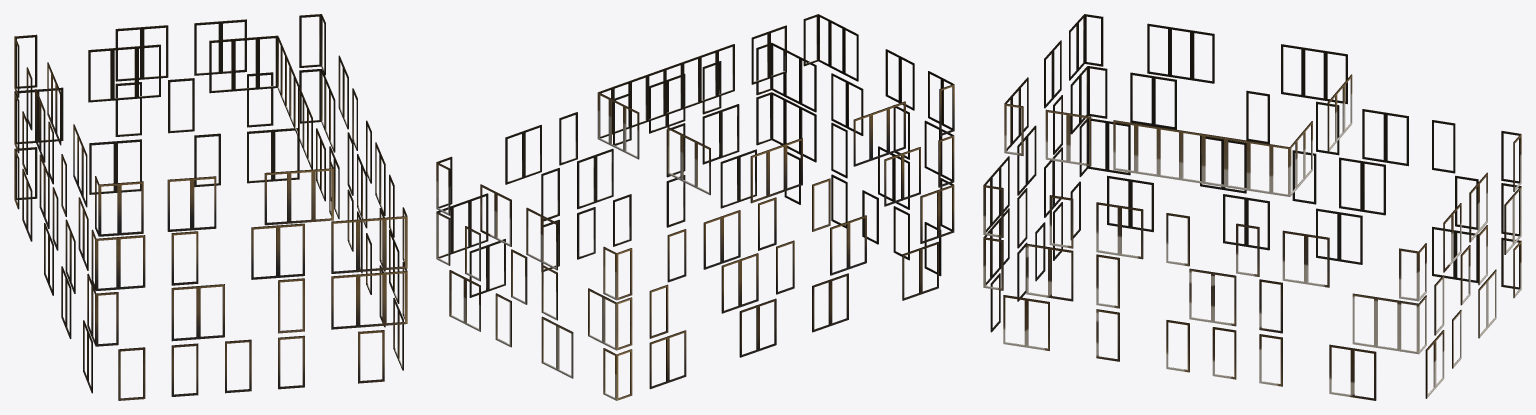
Rendered from Building_07_Frame.fbx.
3 views of the same model, side by side, from view 1: azimuth 30°, elevation 25°; view 2: azimuth 150°, elevation 25°; view 3: azimuth 270°, elevation 25° (orthographic). The views are drawn at different scales.
Visible parts, largest first — view 1: Building_07_Frame; view 2: Building_07_Frame; view 3: Building_07_Frame.
Boxes of the visible parts, x1,y1,x2,y2 form: Building_07_Frame: (14, 14, 407, 400); Building_07_Frame: (436, 14, 954, 400); Building_07_Frame: (983, 14, 1521, 400).
Bounding box in the file's own units: 22.14 × 11.55 × 27.07.
Materials: 1 (1 with a texture image).
